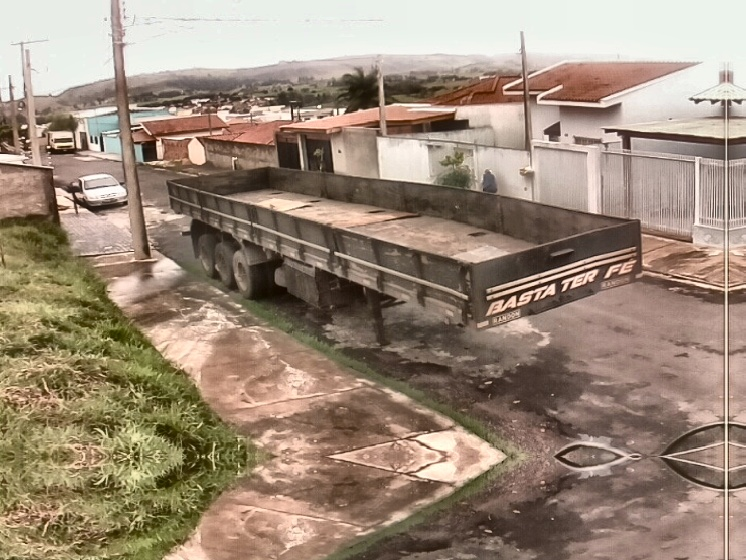person: (477, 167, 500, 196)
